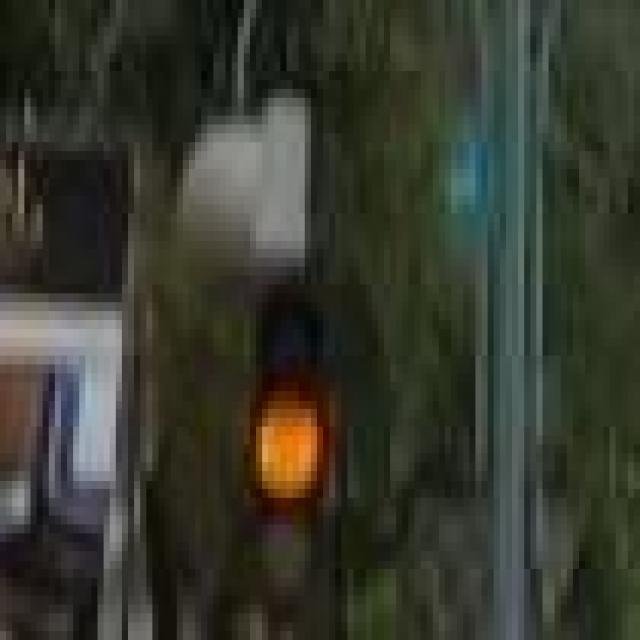yellow_light: (250, 267, 342, 622)
